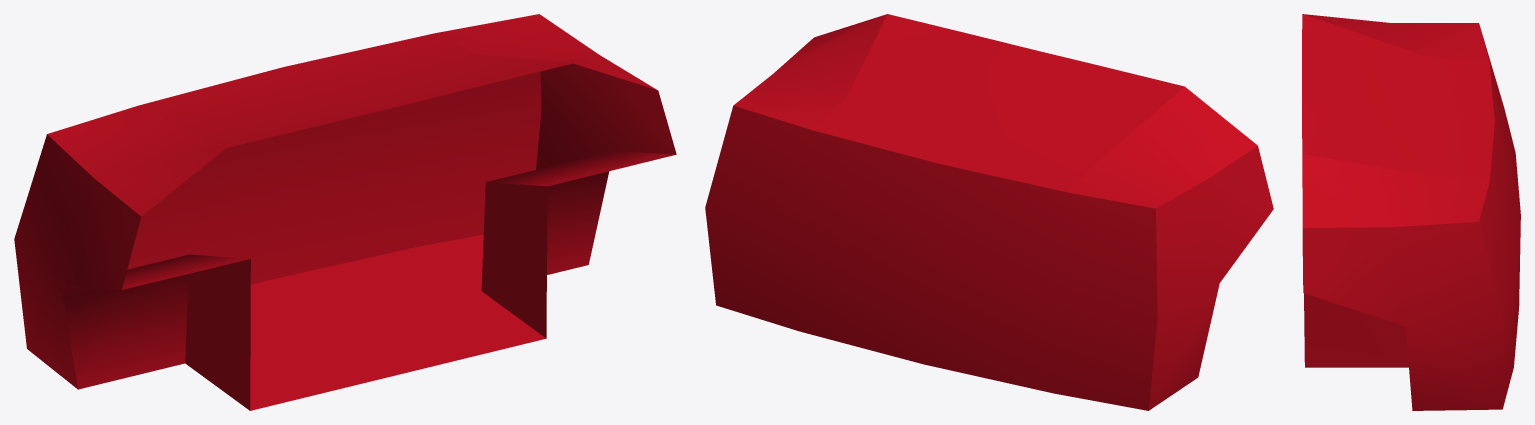
Rendered from template_car_coupe_rear.dae.
The picture shows the model from 3 angles, left to right: view 1: azimuth 30°, elevation 25°; view 2: azimuth 150°, elevation 25°; view 3: azimuth 270°, elevation 25°; orthographic projection. The views are drawn at different scales.
Parts seen in each view (by area): view 1: template_car_coupe_rear; view 2: template_car_coupe_rear; view 3: template_car_coupe_rear.
Boxes of the visible parts, <box> form: template_car_coupe_rear: <box>14,14,676,410</box>; template_car_coupe_rear: <box>705,14,1273,410</box>; template_car_coupe_rear: <box>1302,14,1520,410</box>.
Size of the model in its own units: 1.71 by 0.7049 by 0.7952.
